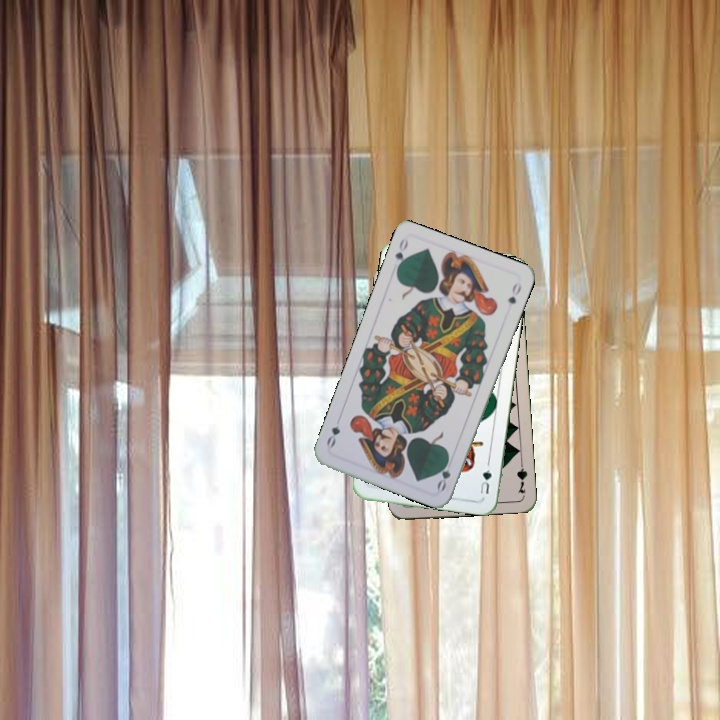G7: (513, 456, 530, 496)
GO: (433, 452, 456, 493), (391, 235, 411, 275)
GU: (476, 459, 494, 496)
